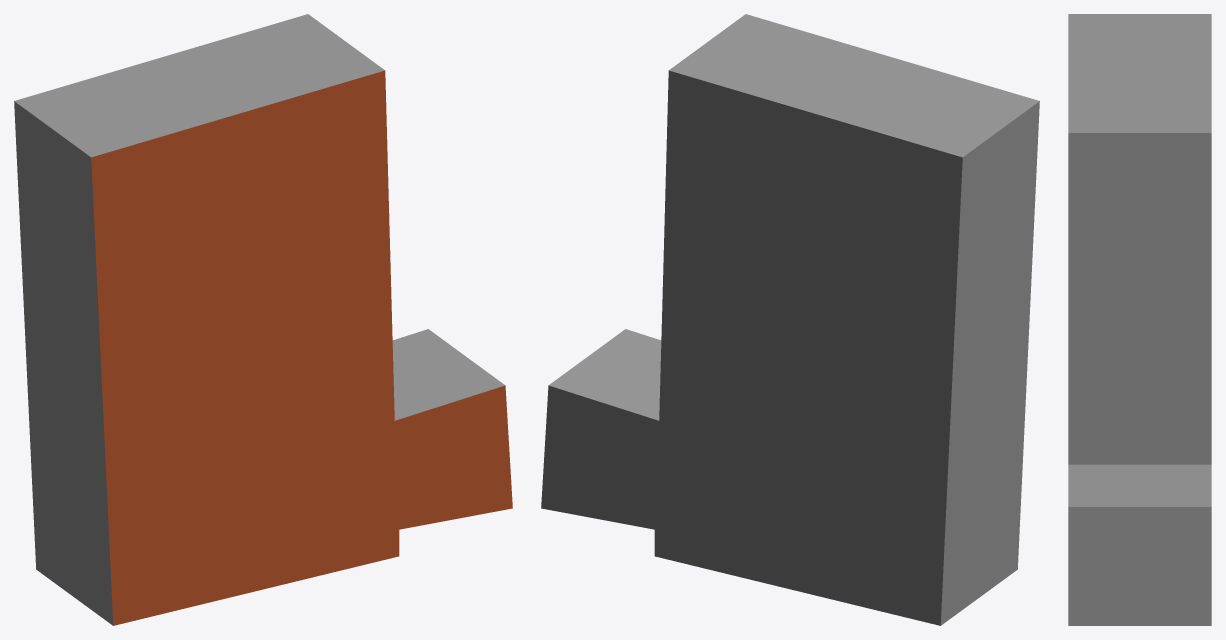
The model's file is construction_5281_assumed_A_Casa_h6m.obj.
3 views of the same model, side by side, from view 1: azimuth 30°, elevation 25°; view 2: azimuth 150°, elevation 25°; view 3: azimuth 270°, elevation 25° (orthographic). The views are drawn at different scales.
Parts seen in each view (by area): view 1: construction_5281_assumed_A_Casa; view 2: construction_5281_assumed_A_Casa; view 3: construction_5281_assumed_A_Casa.
Boxes of the visible parts, x1,y1,x2,y2 form: construction_5281_assumed_A_Casa: (14, 14, 512, 625); construction_5281_assumed_A_Casa: (541, 14, 1039, 625); construction_5281_assumed_A_Casa: (1068, 14, 1211, 625).
Size of the model in its own units: 18.94 by 21 by 6.
